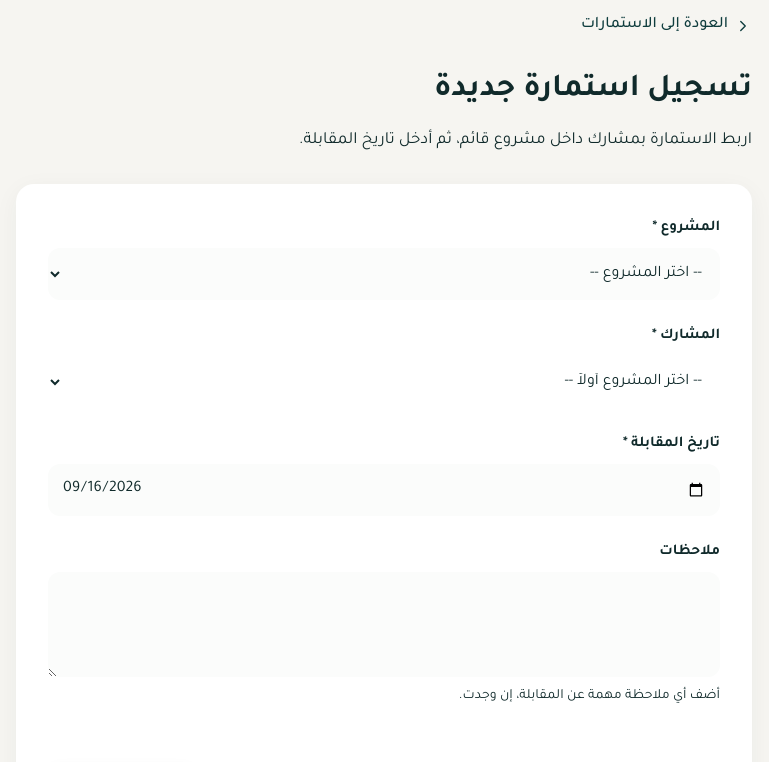
it: CreateResearchFormClient › renders direct-mode fields in approved order with Participant disabled until a Project is selected
Expected: the dropdown labelled "المشارك *" is disabled, [48,356,720,408]
Select "مشروع تجريبي (2 مشارك متاح)" in the dropdown labelled "المشروع *" at point(384, 274), box [48,248,720,300]
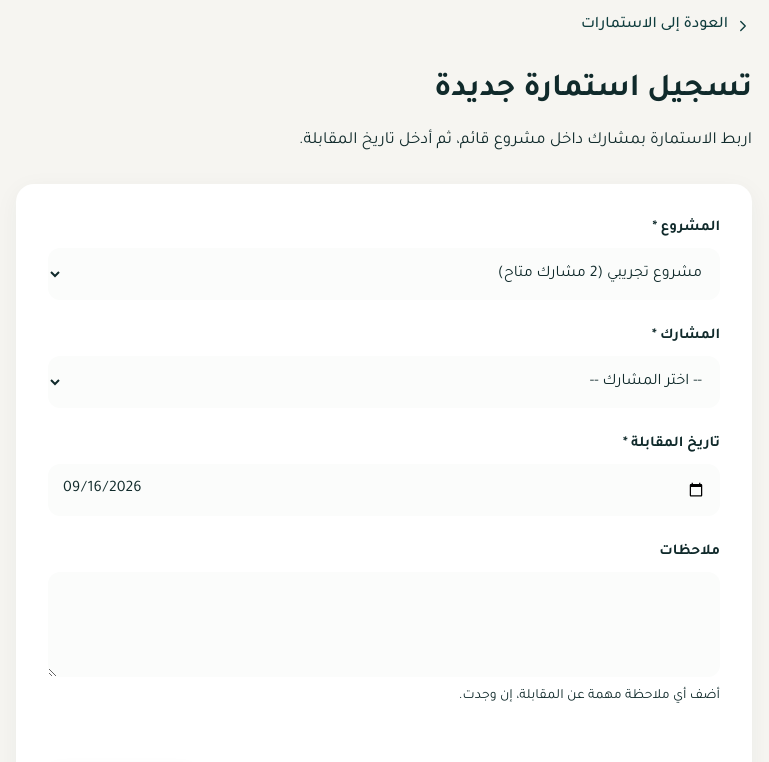
Expected: the dropdown labelled "المشارك *" is enabled, [48,356,720,408]
